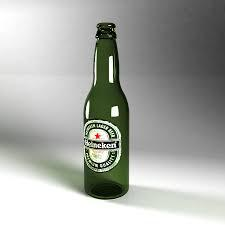beer: (83, 23, 131, 200)
